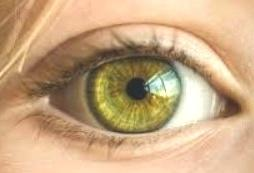eye: (84, 55, 183, 132)
